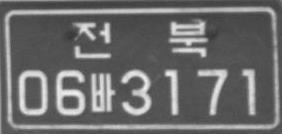0: (17, 69, 48, 116)
1: (158, 68, 187, 116), (236, 68, 265, 115)
3: (120, 68, 151, 115)
6: (55, 69, 85, 116)
7: (196, 69, 228, 116)
바: (90, 72, 115, 111)
전북_D: (71, 20, 208, 57)
